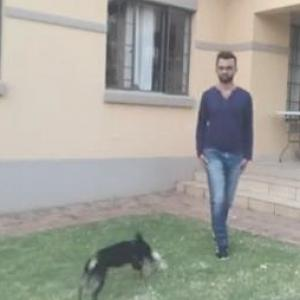follow: (188, 52, 250, 244)
